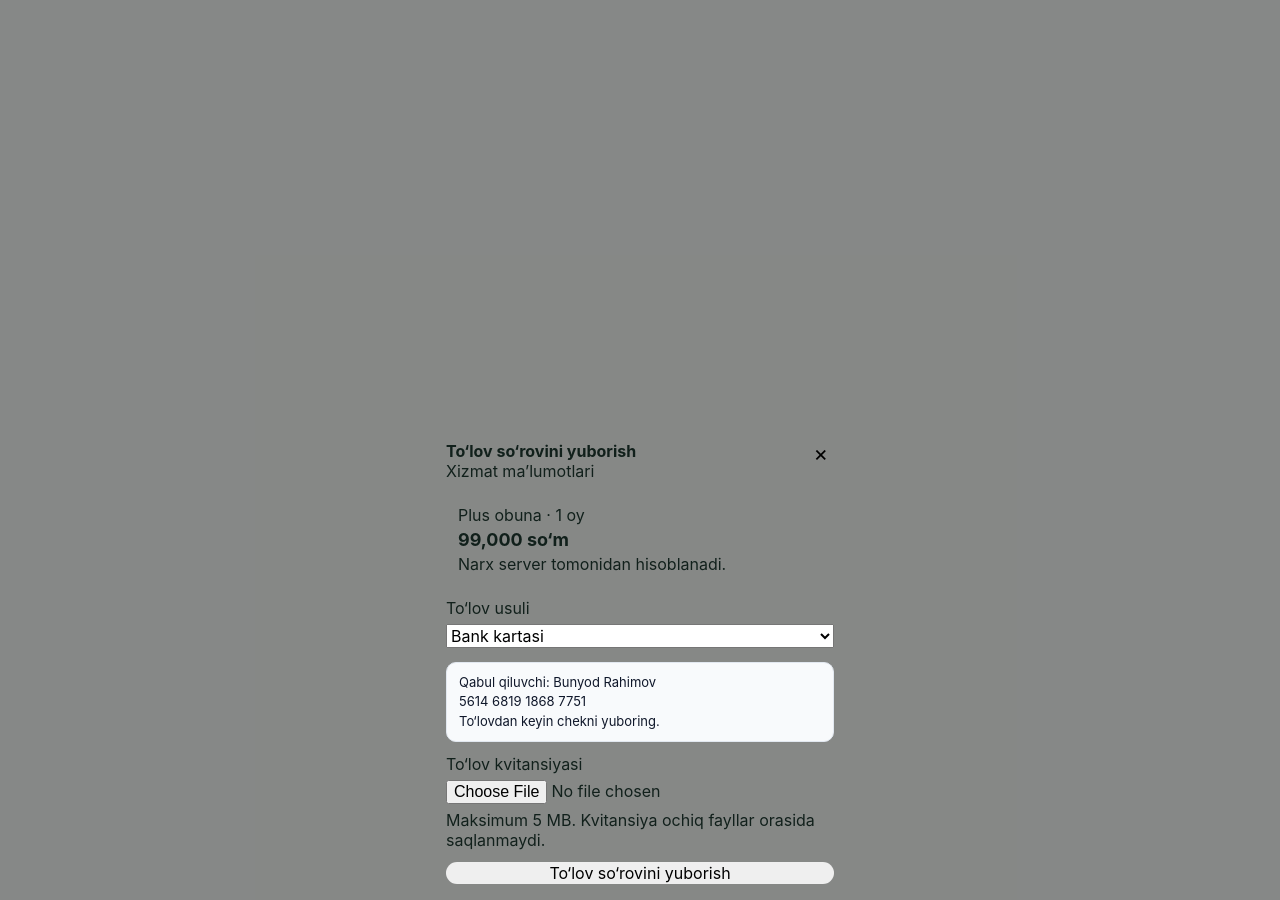
obuna tarifini sotib olish › kvitansiyasiz yuborilmaydi
This screenshot has width=1280, height=900.
Click the button "To‘lov so‘rovini yuborish". click: [640, 873]
box: 446,862 -> 834,884
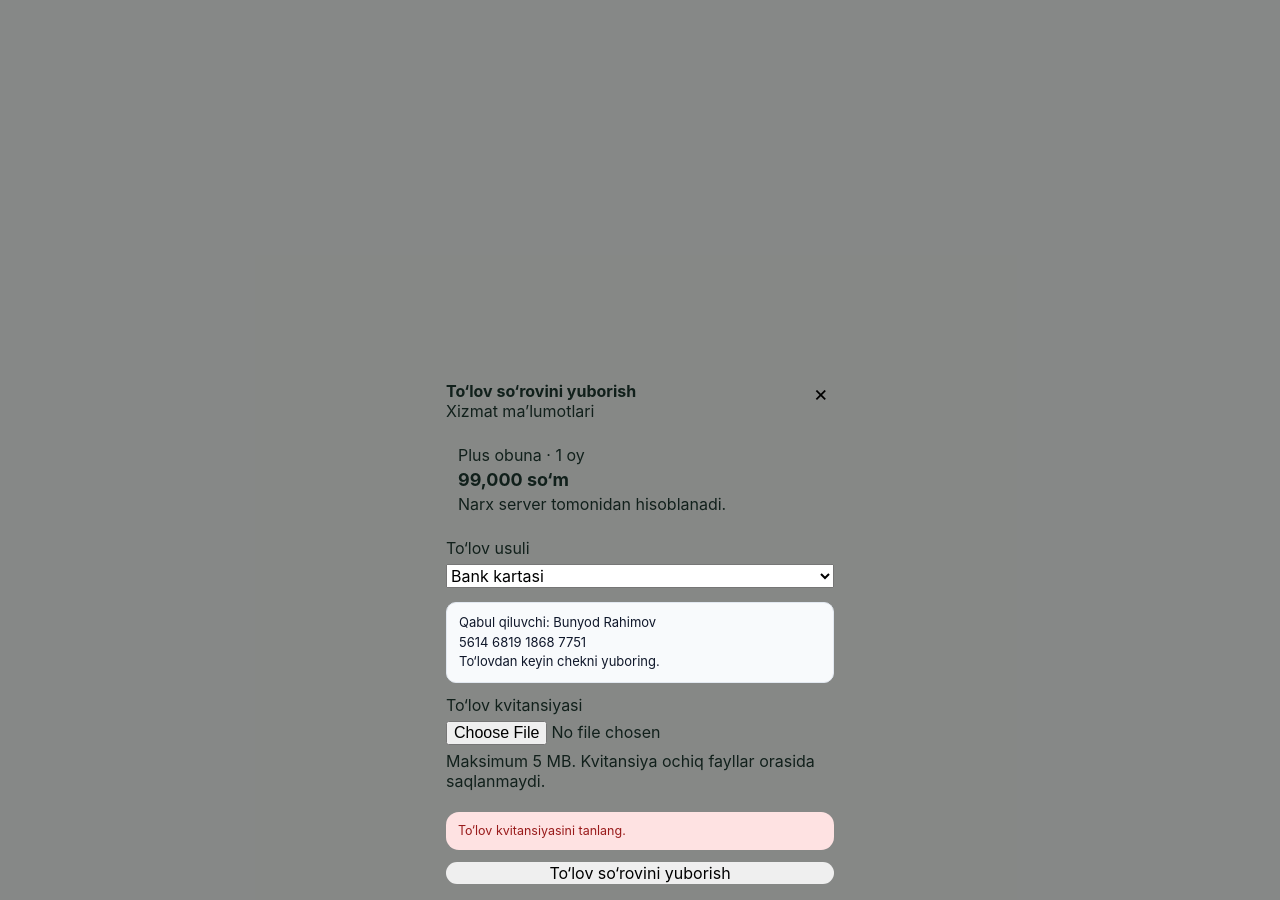
expect the text "To‘lov kvitansiyasini tanlang." is shown: met, box 446,812 -> 834,850
